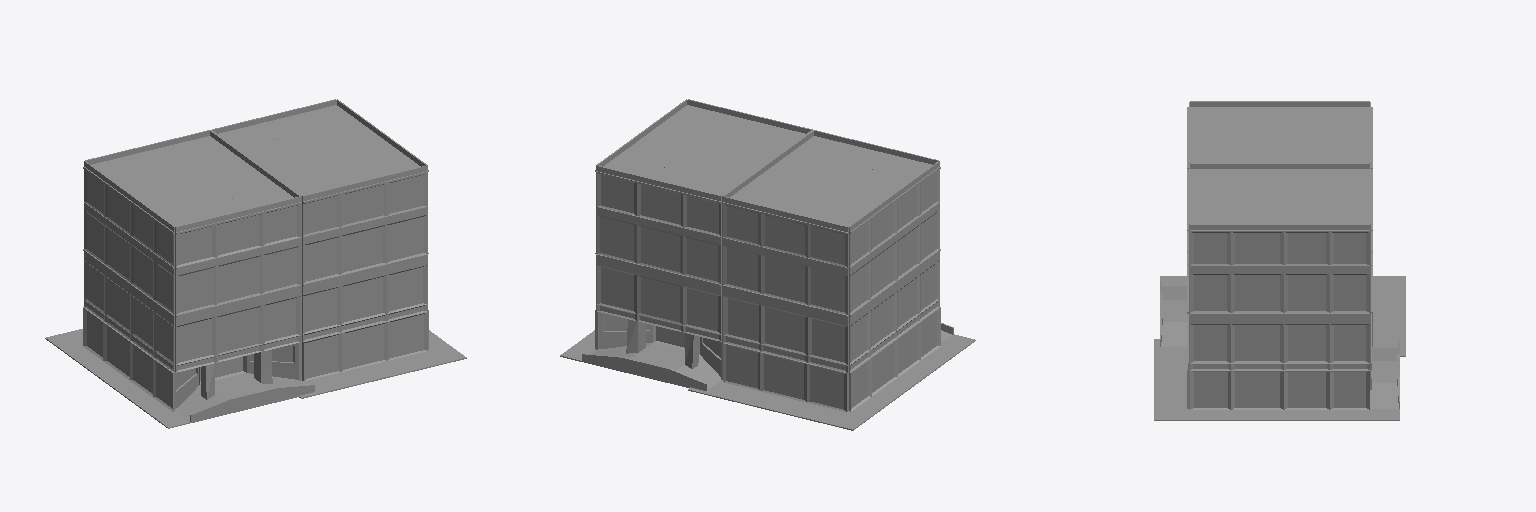
Rendered from building_right_front.obj.
3 views of the same model, side by side, from view 1: azimuth 30°, elevation 25°; view 2: azimuth 150°, elevation 25°; view 3: azimuth 270°, elevation 25° (orthographic).
Visible parts, largest first — view 1: dva_baraky_vpravo_Cube.023; view 2: dva_baraky_vpravo_Cube.023; view 3: dva_baraky_vpravo_Cube.023.
Boxes of the visible parts, x1,y1,x2,y2 form: dva_baraky_vpravo_Cube.023: [45, 99, 466, 428]; dva_baraky_vpravo_Cube.023: [560, 99, 975, 430]; dva_baraky_vpravo_Cube.023: [1154, 101, 1405, 420].
Size of the model in its own units: 18.47 by 11.07 by 13.61.